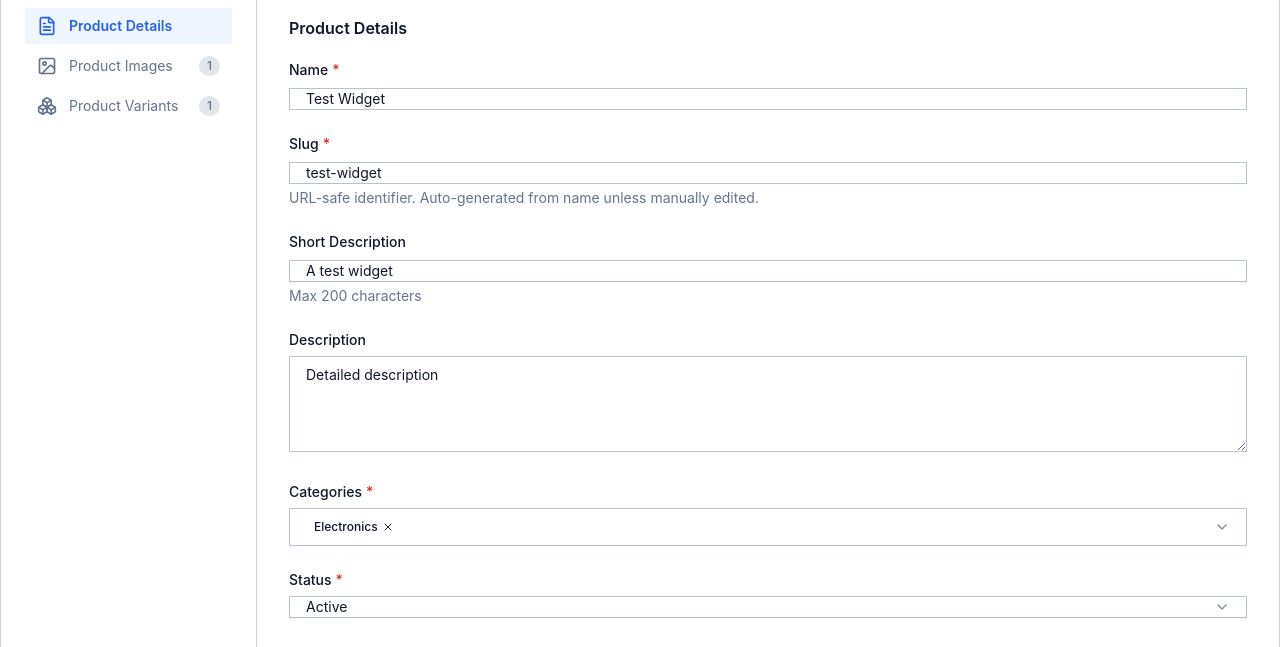
Test case: ProductEditPage › Validation blocks submission (Req 2.5) › blocks submission when SKU is cleared to blank
Expected: the field with placeholder "Product name" holds "Test Widget", [289, 88, 1247, 110]
Server-hydrated rows start read-only — open the row for editing first
Click the tab "Product Variants 1": (128, 106) [25, 88, 232, 124]
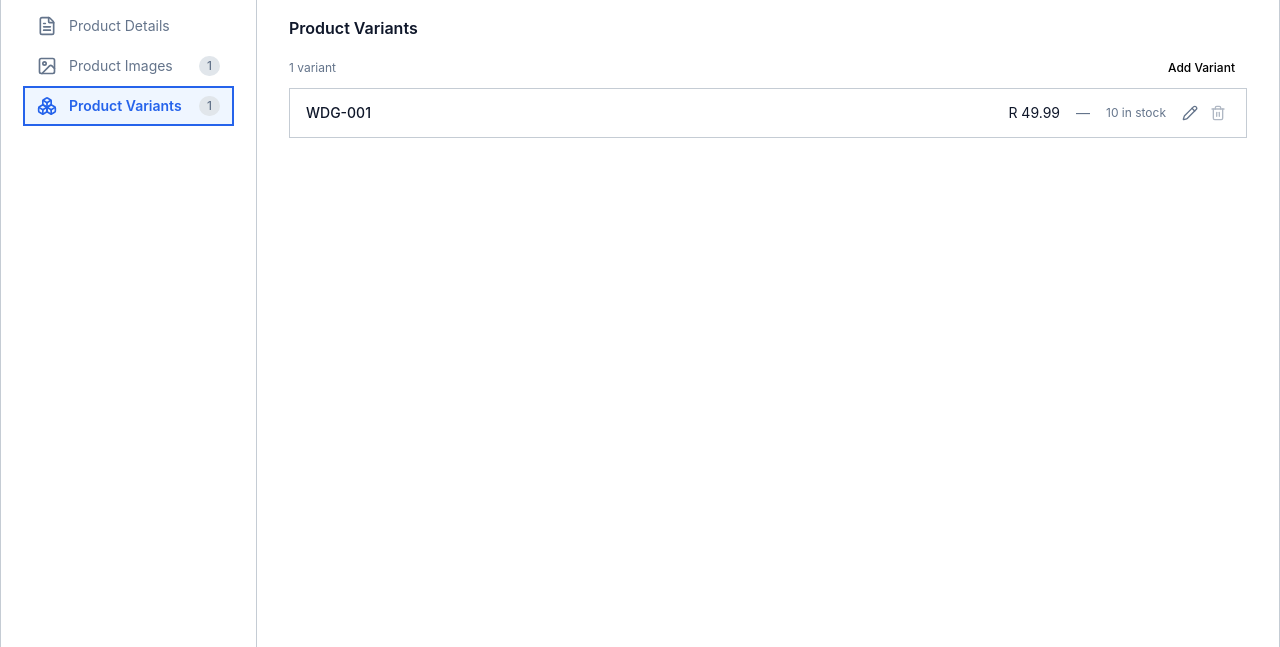
Click the button with test id "edit-variant-0": (1190, 113) [1178, 101, 1202, 125]
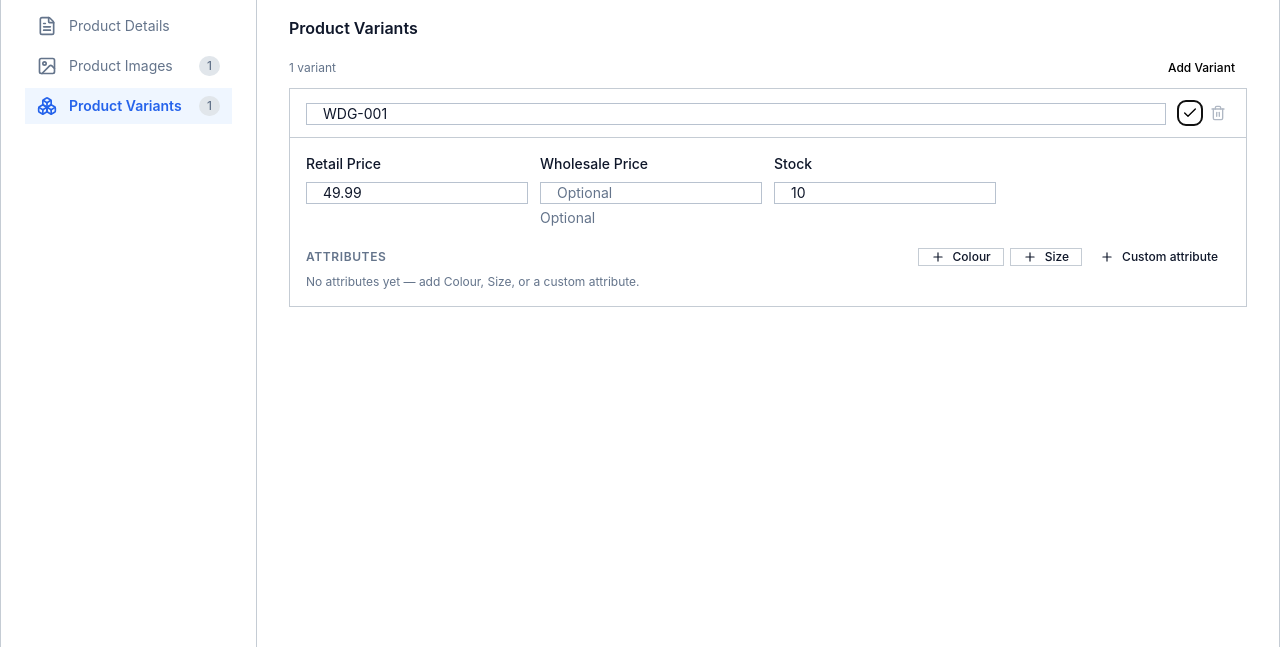
Clear the field showing "WDG-001": (736, 114) [306, 103, 1166, 125]
(page scrolled)
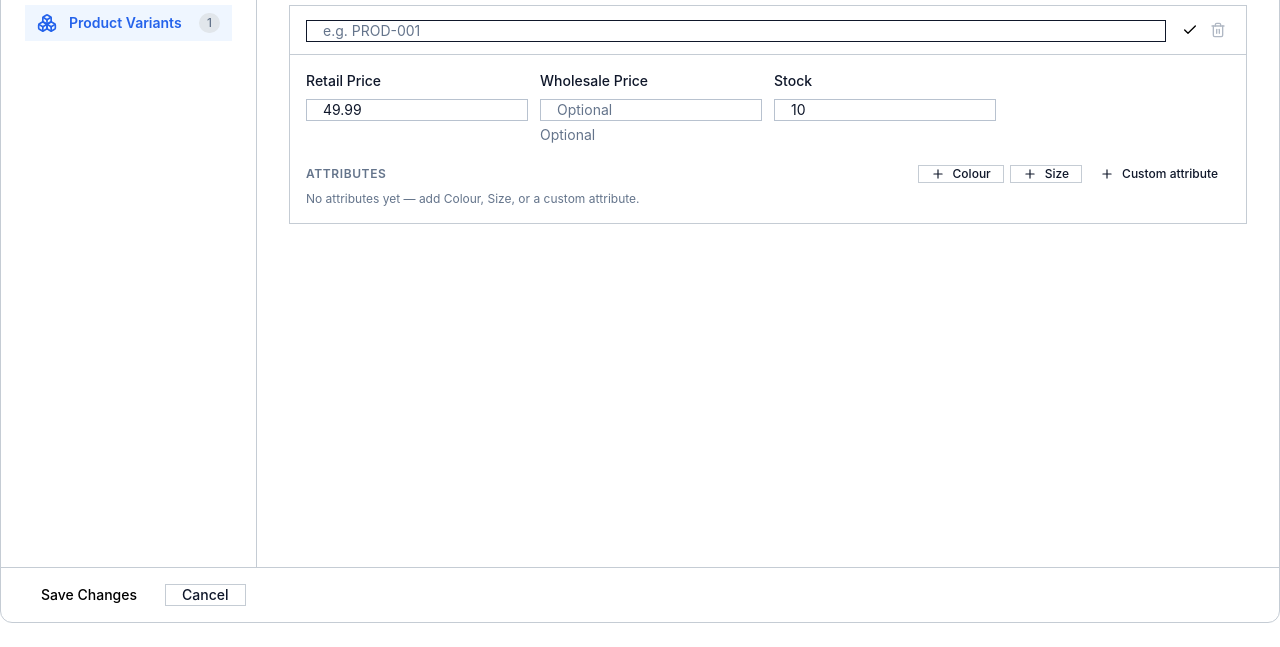
Click the button "Save Changes": (89, 595) [25, 585, 153, 605]
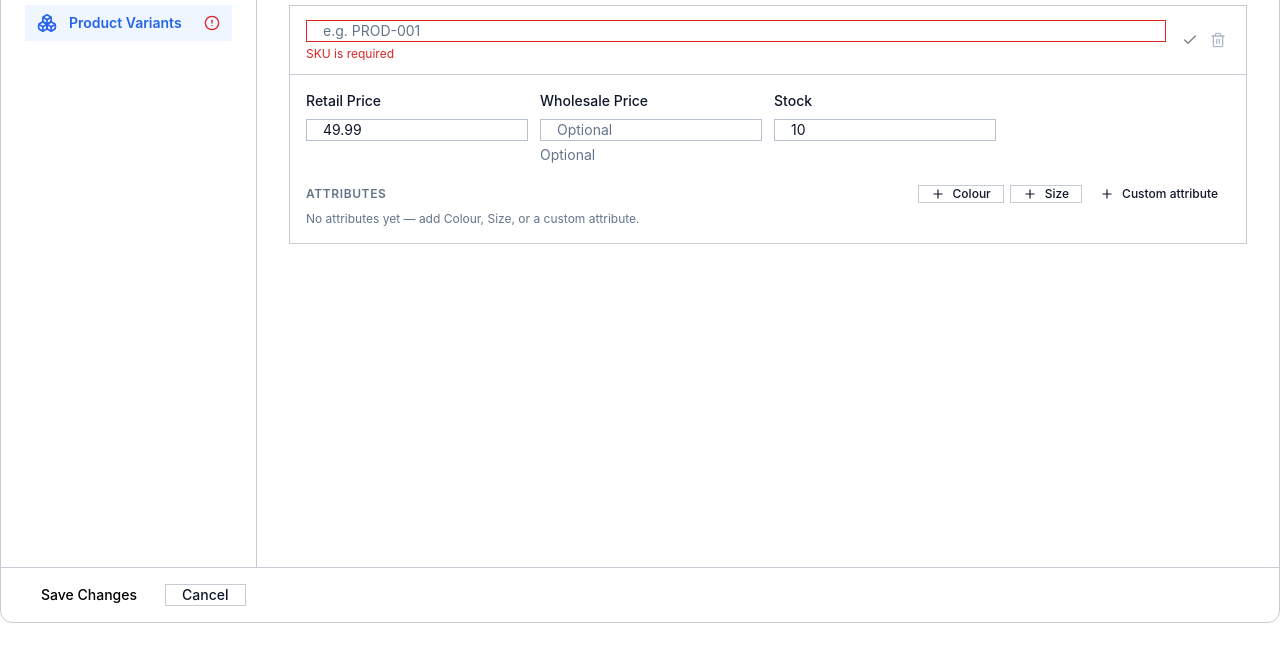
Now the text "SKU is required" is shown, box [306, 46, 394, 61]
